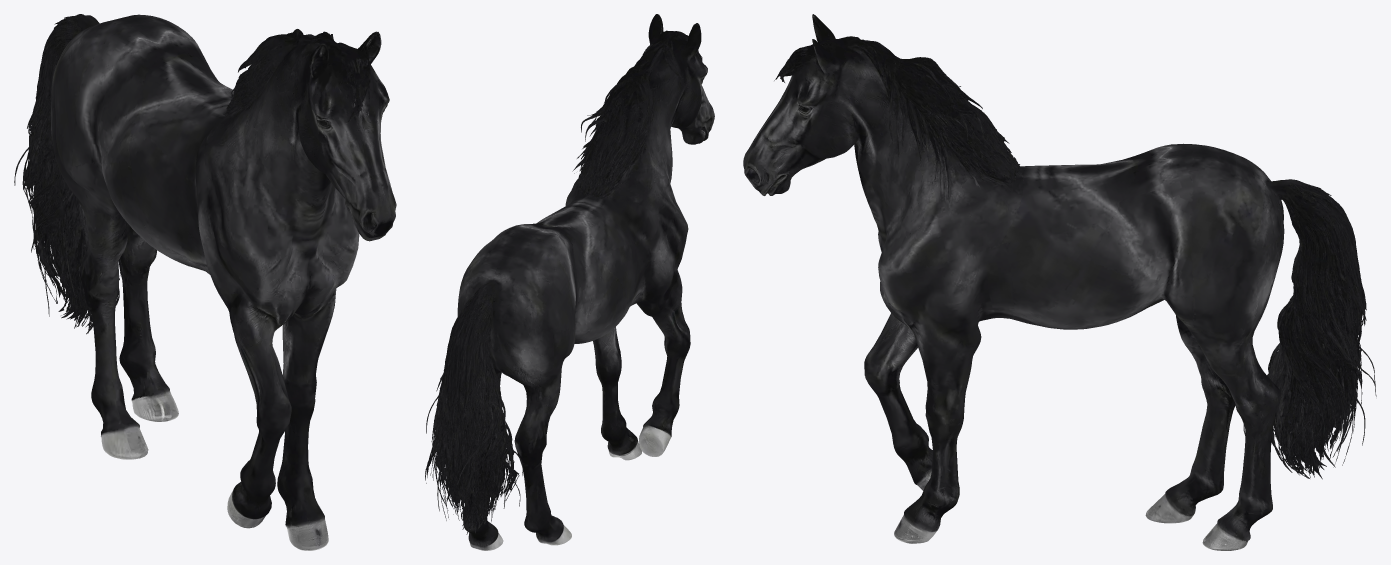
The model's file is marwari-mobile.glb.
The picture shows the model from 3 angles, left to right: view 1: azimuth 30°, elevation 25°; view 2: azimuth 150°, elevation 25°; view 3: azimuth 270°, elevation 25°; orthographic projection. The views are drawn at different scales.
Parts seen in each view (by area): view 1: Object_4; view 2: Object_4; view 3: Object_4.
Boxes of the visible parts, left/top/right/bottom form: Object_4: left=14, top=14, right=396, bottom=550; Object_4: left=425, top=14, right=714, bottom=550; Object_4: left=743, top=14, right=1376, bottom=550.
Bounding box in the file's own units: 0.4528 × 1.67 × 1.9.
Materials: 1 (1 with a texture image).
